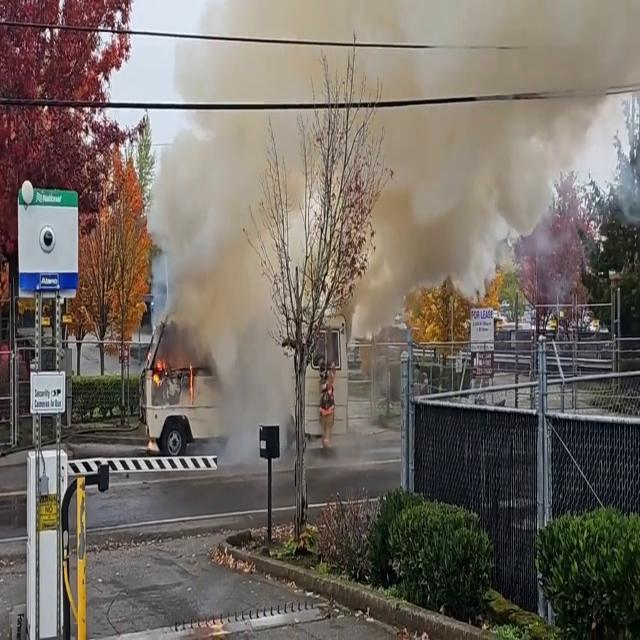Smoke: (147, 0, 640, 435)
